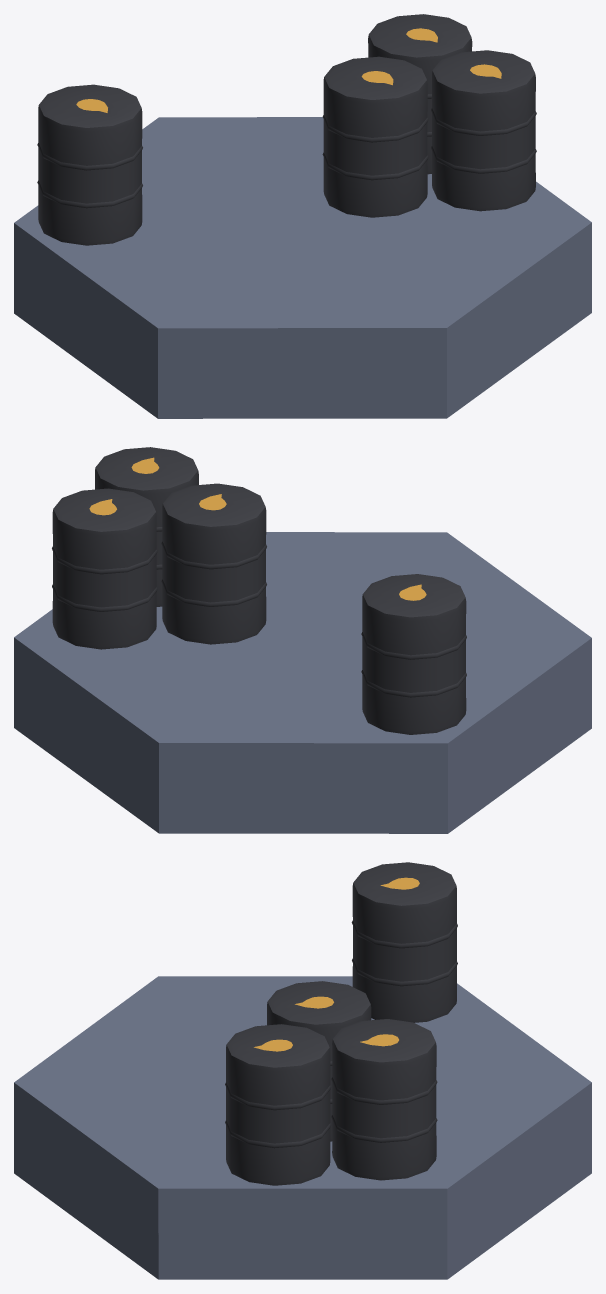
The model's file is OilHex_01.fbx.
The picture shows the model from 3 angles, top to bottom: view 1: azimuth 30°, elevation 25°; view 2: azimuth 150°, elevation 25°; view 3: azimuth 270°, elevation 25°; orthographic projection.
Parts seen in each view (by area): view 1: OilHex_01; view 2: OilHex_01; view 3: OilHex_01.
Boxes of the visible parts, bbox=[...] form: OilHex_01: bbox=[14, 14, 591, 418]; OilHex_01: bbox=[14, 447, 591, 833]; OilHex_01: bbox=[14, 862, 591, 1279].
Bounding box in the file's own units: 1 × 0.465 × 1.15.
